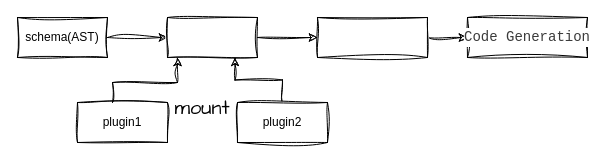
The diagram is 608 pixels wide and 160 high, and some of its shapes have lost their labels. Here are the shapes that lost their labels. From the top down, the centre of each, then its label:
point (212, 37): gencode
point (372, 37): AST Transformation
